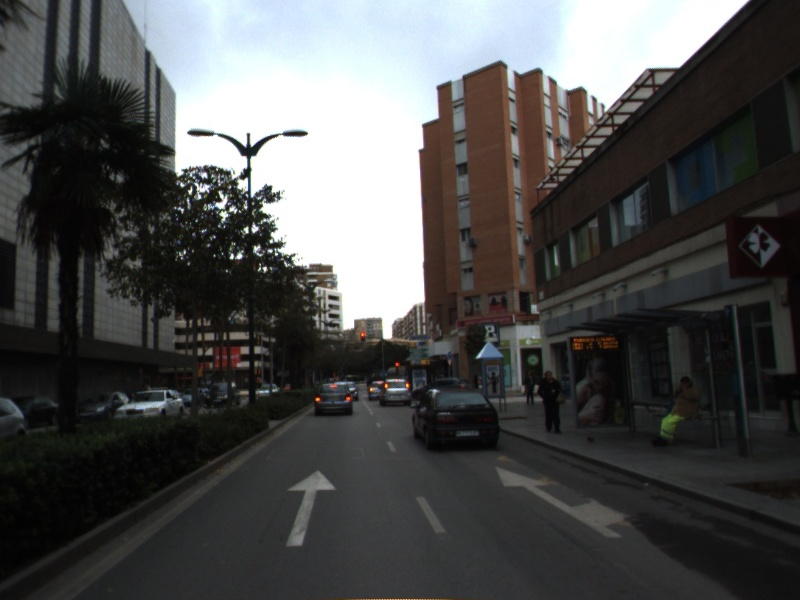STRAIGHT: (283, 467, 339, 549)
STRAIGHT_RIGHT: (494, 465, 633, 540)
